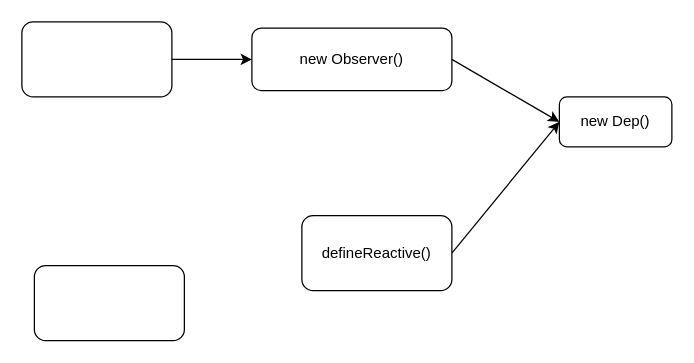
Image size: 694x363. Some labels were removed from this diagram. The shapes that lost their labels are listed below. From the top down, each one's centre as x and y in pixels, then its label:
the point at 96,59: observe(value)
the point at 108,302: initInjections() initRender() initProps()
